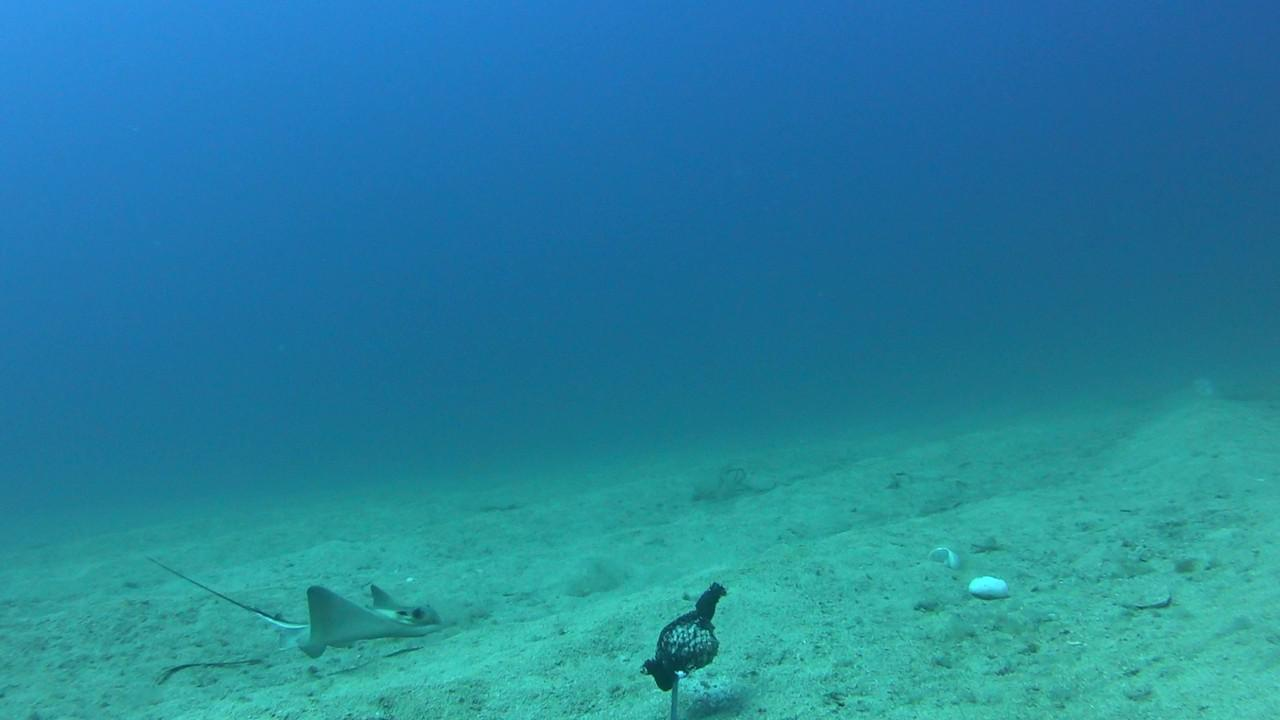myliobatis: (141, 552, 448, 652)
